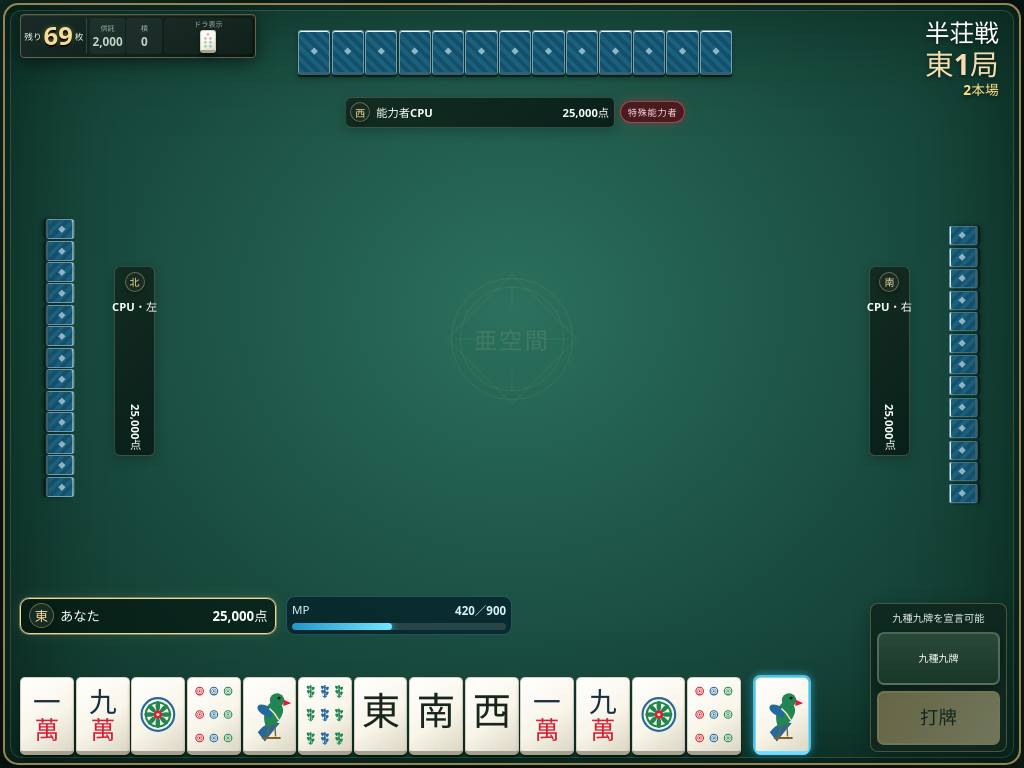
Test case: 九種九牌の画面操作 › 宣言すると途中流局の内容を結果画面へ表示する
This screenshot has width=1024, height=768.
Click the button "九種九牌" at (938, 658), box [877,632,1000,685]
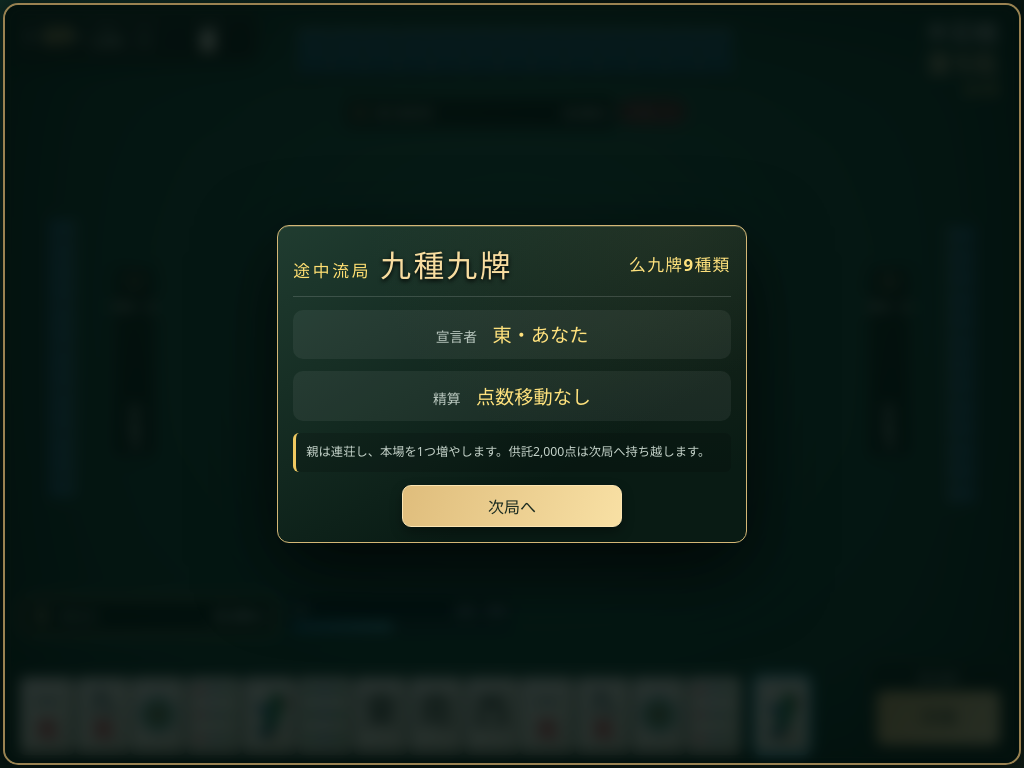
Result: the button "次局へ" is shown at [402,485,622,527]
